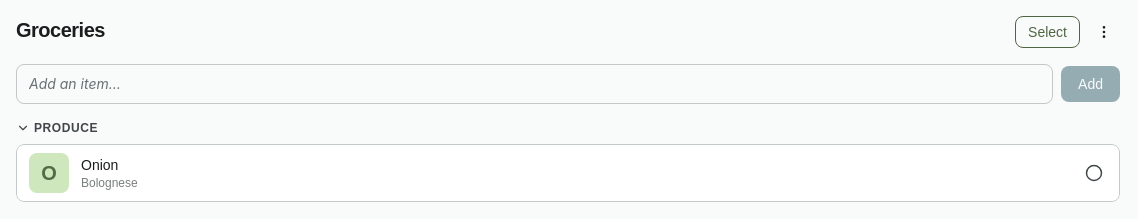
Test: ShoppingListPage — the sort-by-recipe heading opens the recipe › renders the heading as plain text once the recipe is gone
Click the button with test id "shopping-overflow-btn": (1104, 32) [1088,16,1120,48]
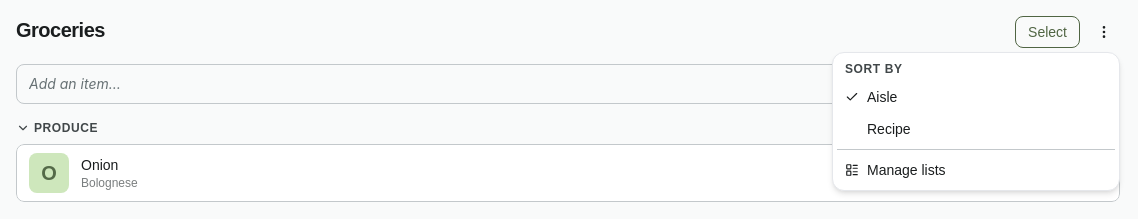
Click the button with test id "shopping-sort-recipe": (889, 129) [837,113,1115,145]
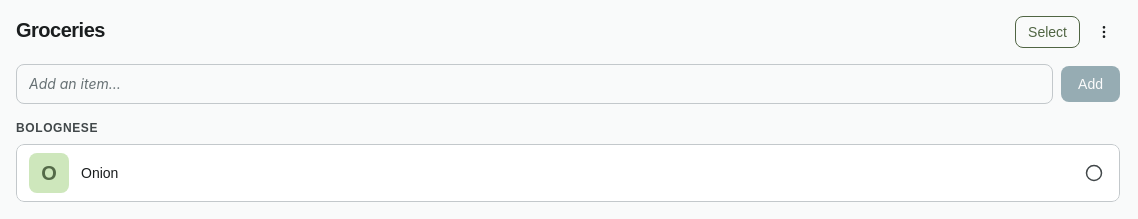
Check: the element with test id "shopping-recipe-group" shows "Bolognese", box [16,121,98,135]
